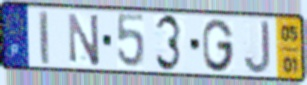3: (153, 13, 188, 74)
5: (116, 11, 146, 71)
G: (200, 17, 236, 74)
I: (37, 9, 51, 67)
J: (242, 19, 272, 76)
N: (66, 11, 102, 68)
